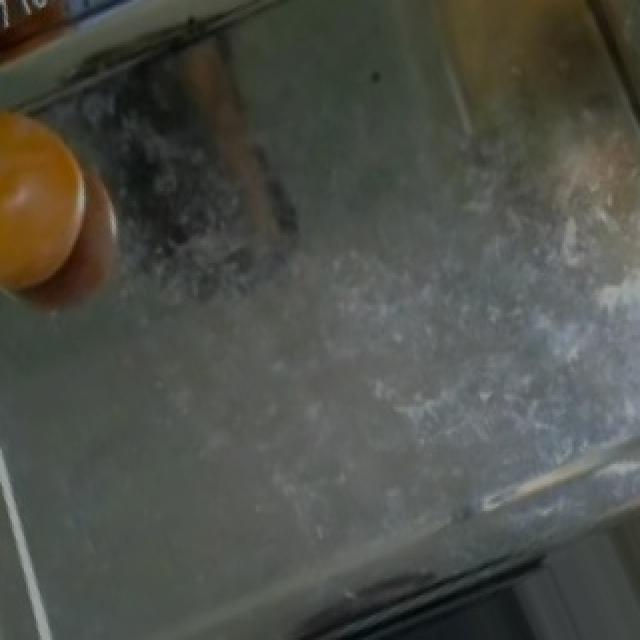Fruit: (0, 87, 108, 310)
